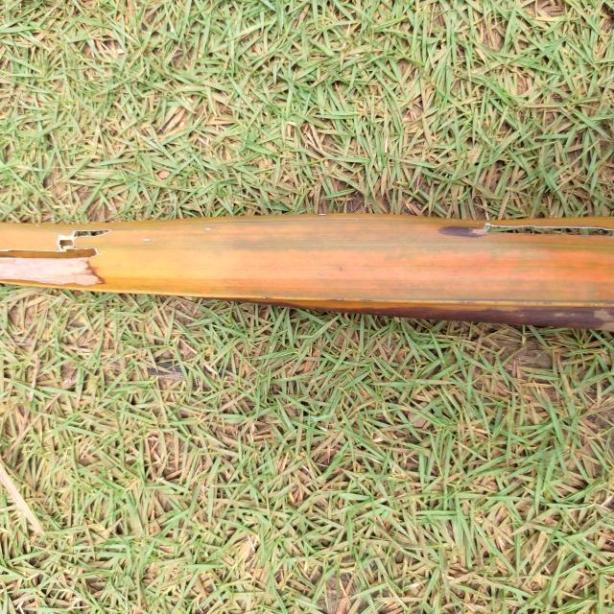Megnesium: (5, 206, 614, 334)
